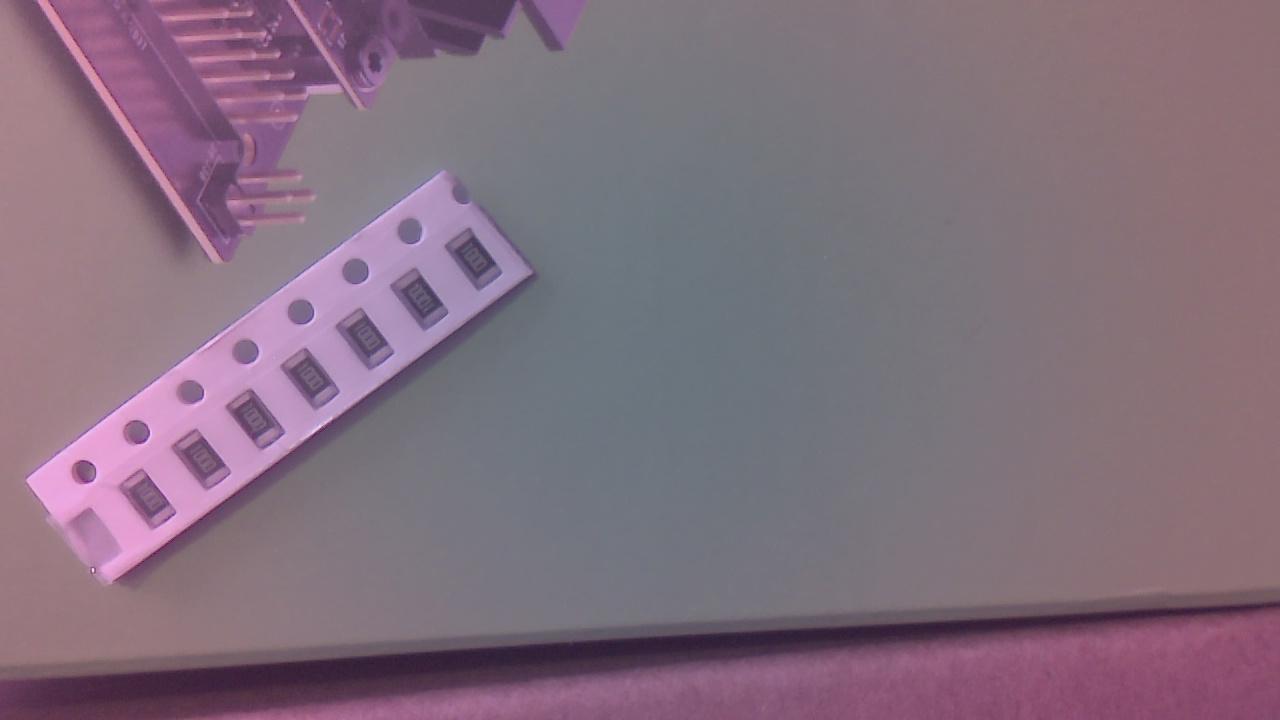Resistor: (176, 429, 237, 493), (122, 471, 182, 536), (285, 351, 345, 416), (451, 231, 511, 295), (394, 270, 451, 336), (341, 313, 399, 377), (233, 392, 289, 455)
